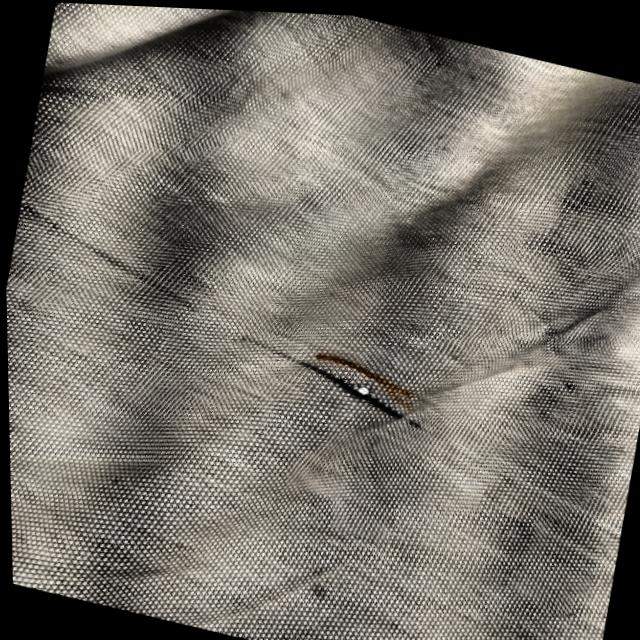Hole: (356, 382, 370, 392)
Stitch: (297, 359, 358, 395), (360, 392, 391, 407)
